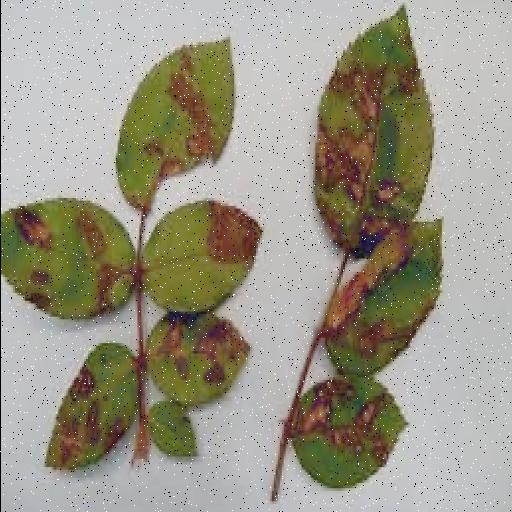downy_mildew: (315, 8, 432, 255), (115, 40, 233, 208), (323, 220, 440, 374), (1, 198, 134, 319), (141, 201, 260, 311), (289, 378, 405, 488), (46, 344, 136, 469), (147, 315, 249, 406), (147, 402, 195, 459)
